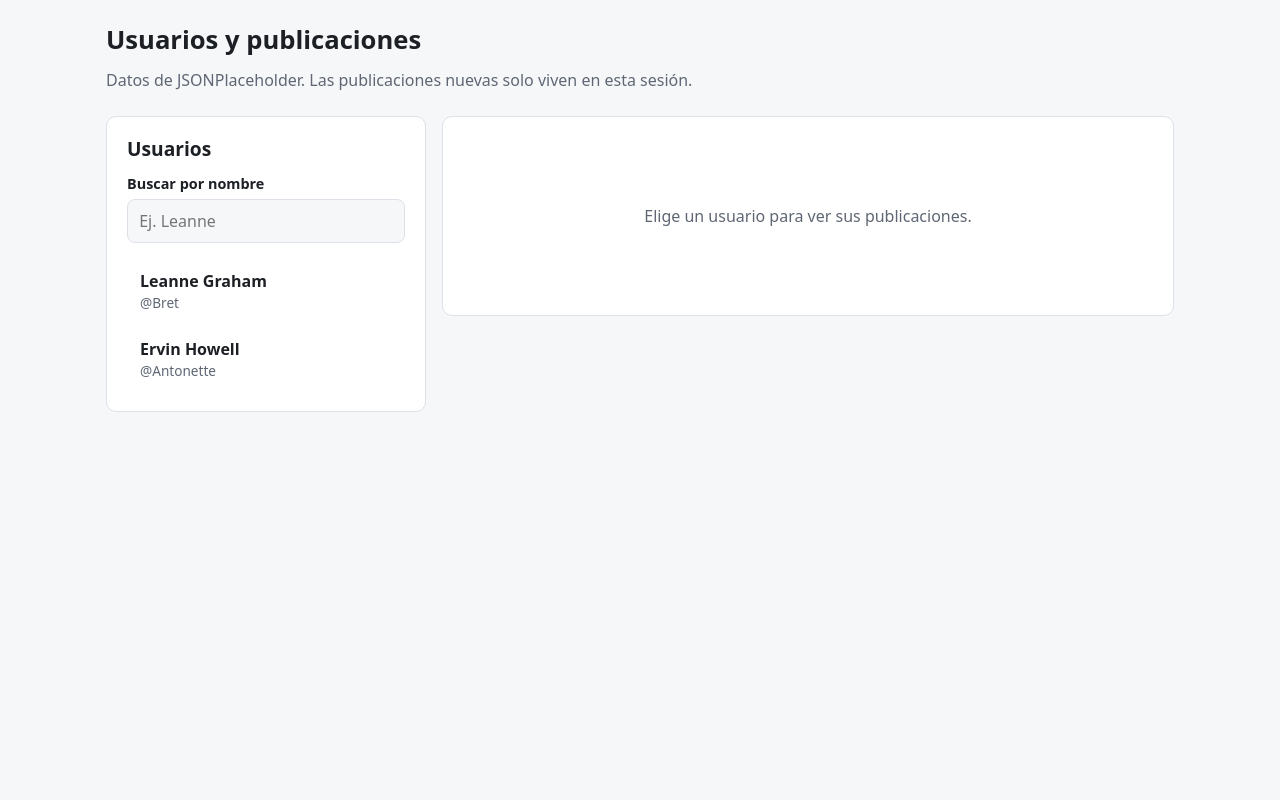
it: Aplicación de Usuarios y Publicaciones › 3. Valida que el título y texto sean obligatorios al crear un post
This screenshot has width=1280, height=800.
Click the text "Leanne Graham" at {"x": 203, "y": 281}, box [140,269,267,293]
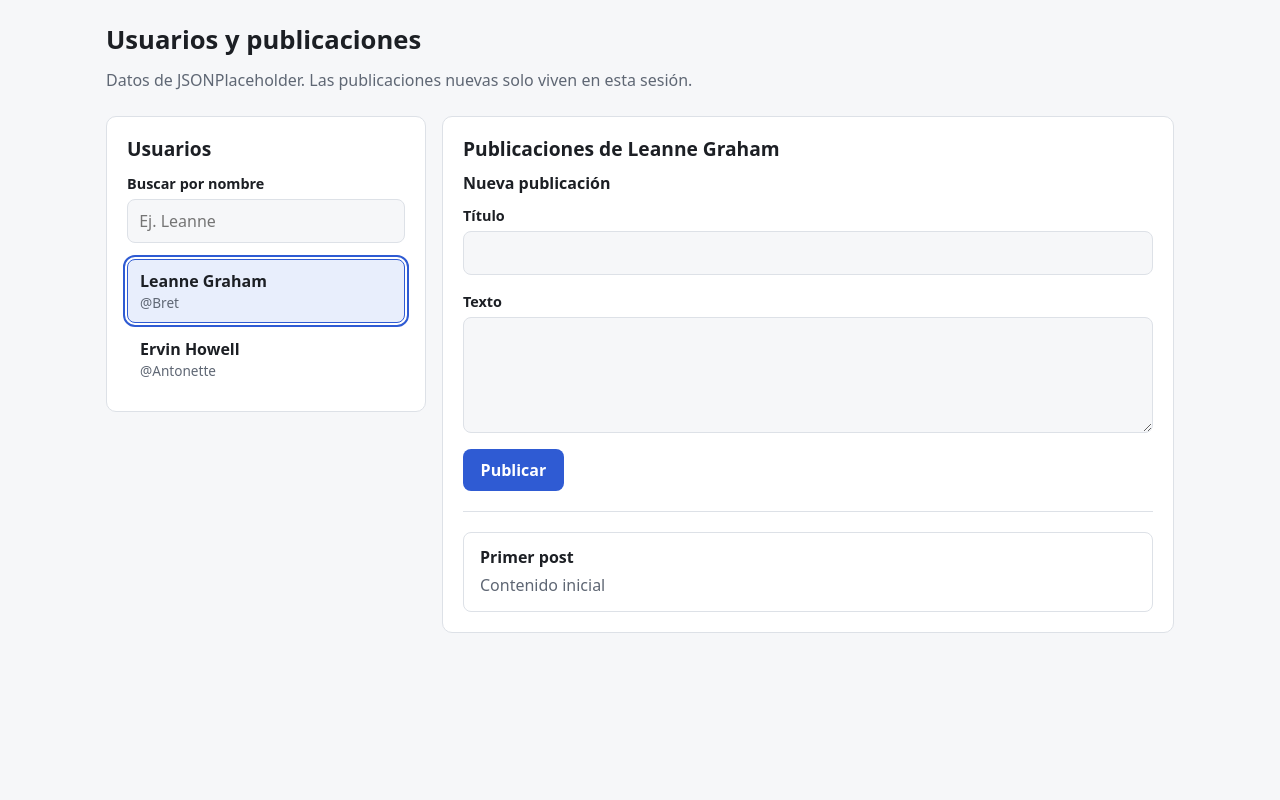
Check: the heading "Primer post" is shown, box [480,546,574,568]
Click the button "Publicar" at {"x": 513, "y": 470}, box [463,449,564,491]
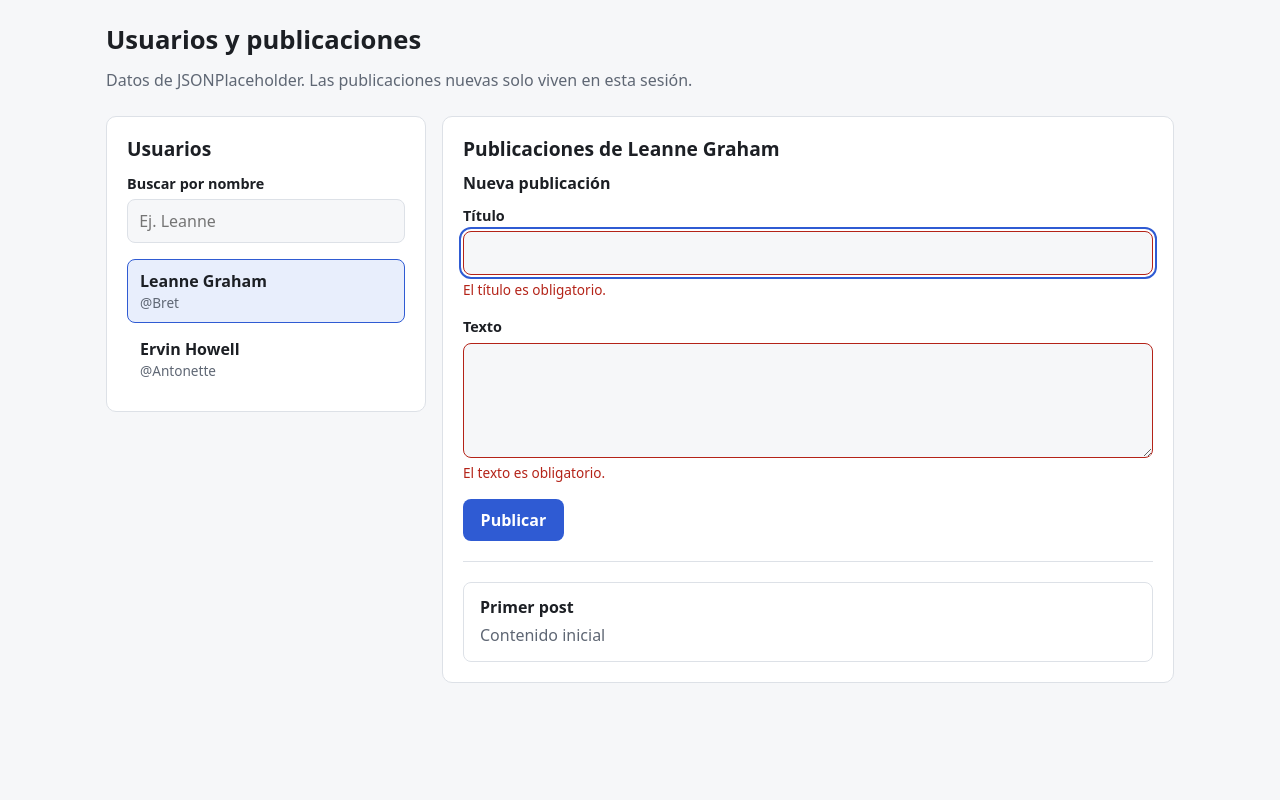
Check: the text "El título es obligatorio." is shown, box [463,280,606,299]
Check: the text "El texto es obligatorio." is shown, box [463,463,605,482]
